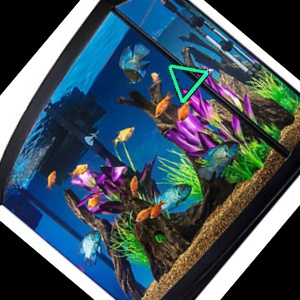triangle: (164, 60, 215, 105)
